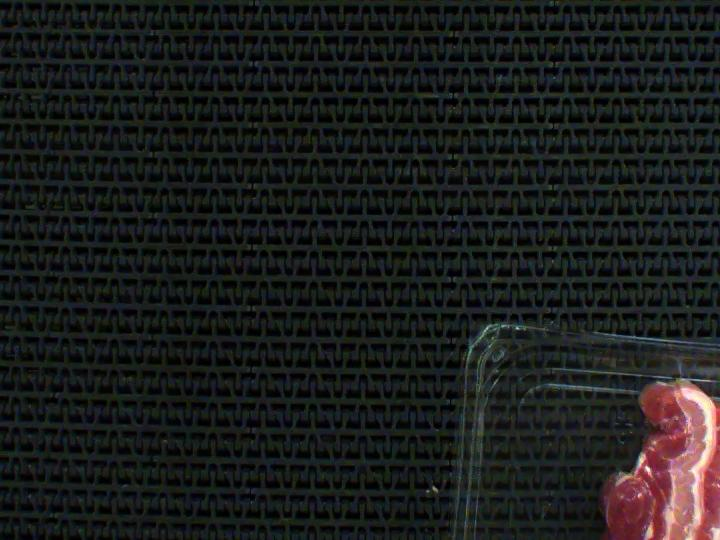packaging-error: (622, 330, 720, 402)
